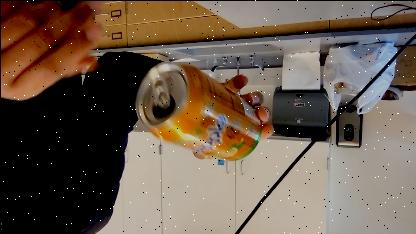Can: (130, 51, 262, 163)
